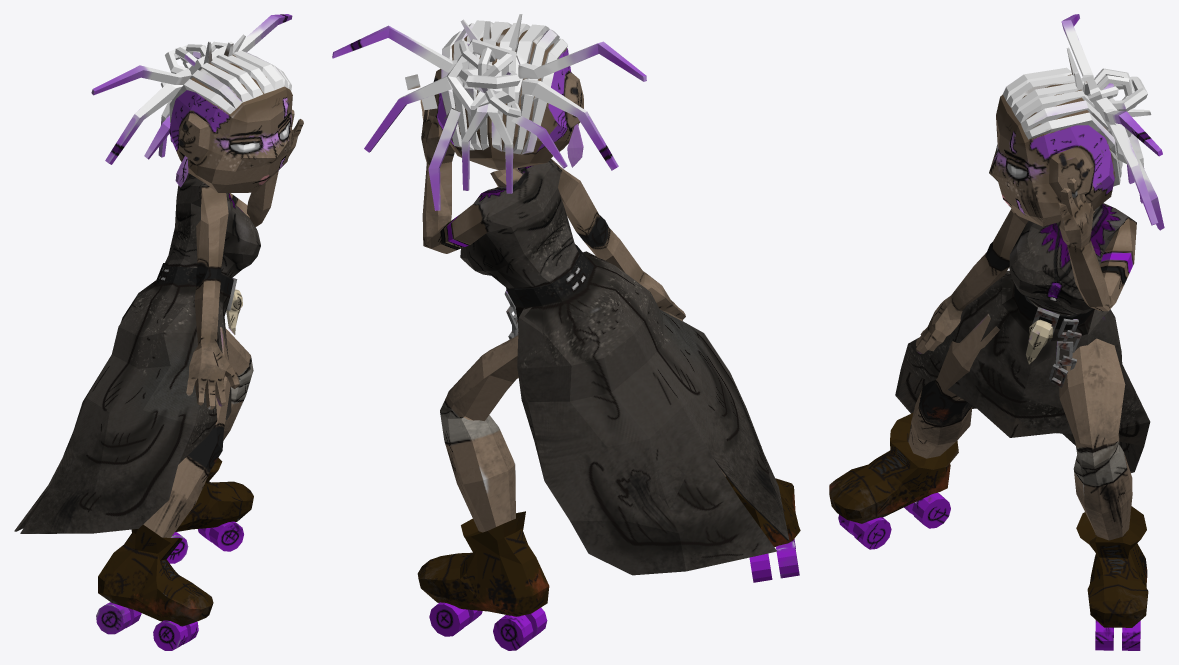
The model's file is bruja_000010.obj.
3 renders of one model, left to right at view 1: azimuth 30°, elevation 25°; view 2: azimuth 150°, elevation 25°; view 3: azimuth 270°, elevation 25°, orthographic. The views are drawn at different scales.
Parts seen in each view (by area): view 1: Bruja_Plane.001; view 2: Bruja_Plane.001; view 3: Bruja_Plane.001.
Part boxes in pixels (x1,y1,x2,y2): Bruja_Plane.001: (14, 14, 303, 650); Bruja_Plane.001: (332, 14, 800, 650); Bruja_Plane.001: (829, 14, 1164, 650).
Bounding box in the file's own units: 10.21 × 15.34 × 8.
